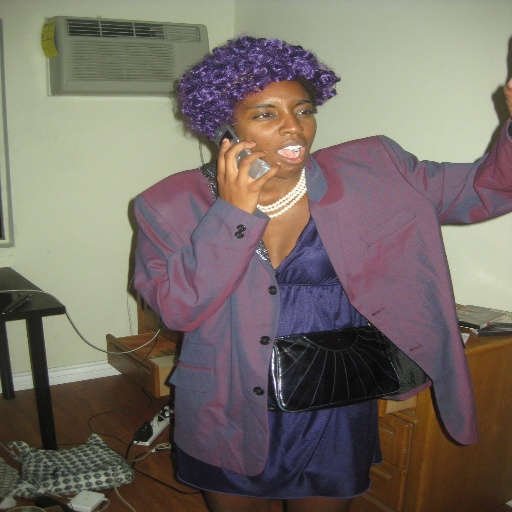hand: (217, 142, 267, 205), (501, 76, 511, 115)
